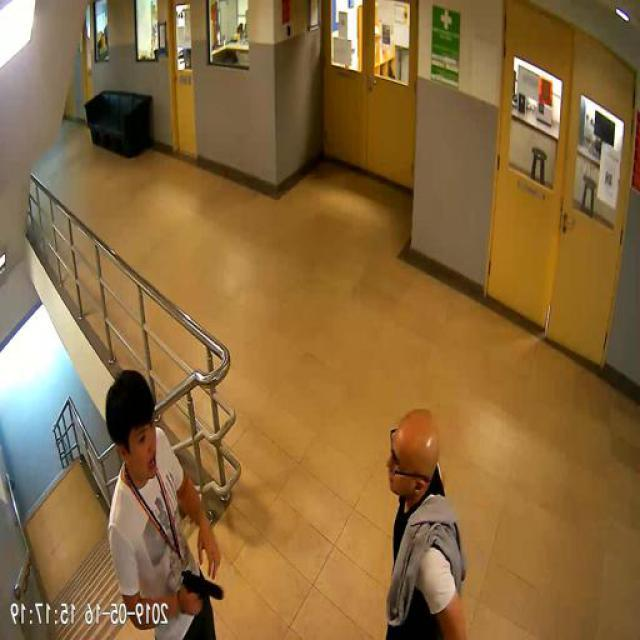Gun: (184, 568, 225, 614)
